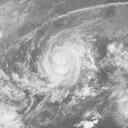cyclone: (34, 33, 100, 94)
